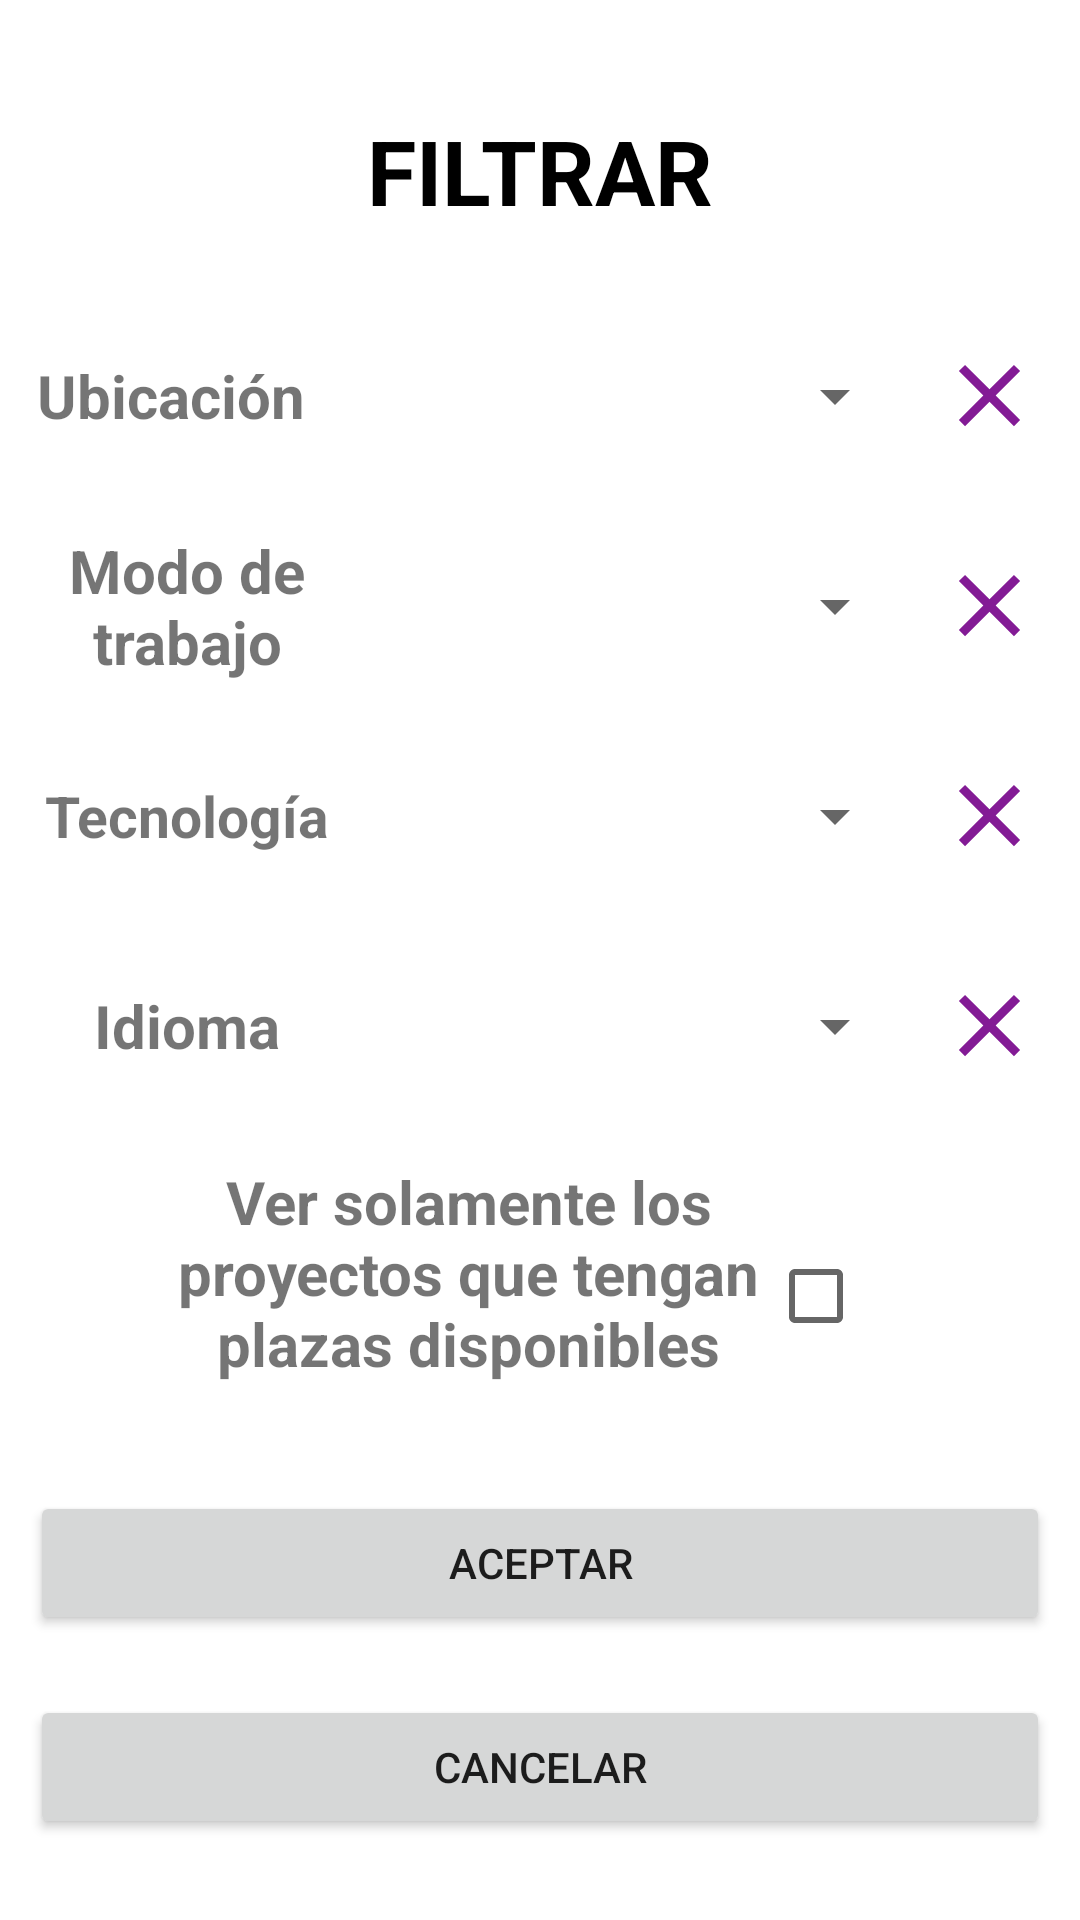

Screen size 1080px x 1920px. Icon name, then its center in pixels as (x,y):
borrar: (989,395), (989,605), (989,815), (989,1025)
